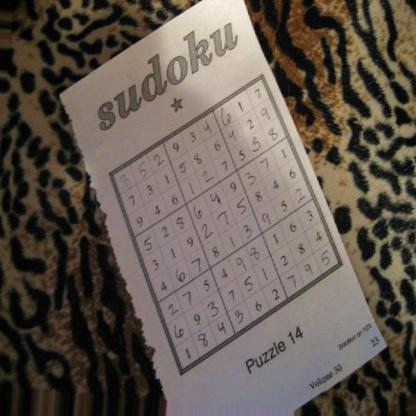sudoku: (106, 70, 345, 377)
